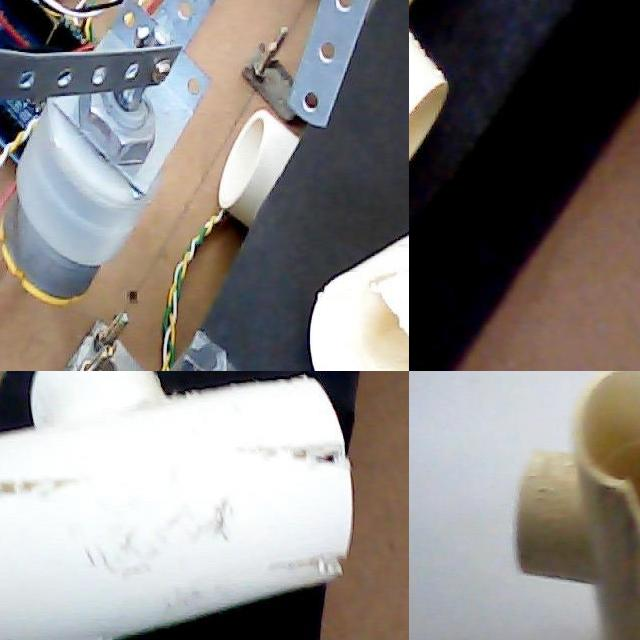Defective: (89, 506, 242, 579), (197, 416, 347, 482), (0, 593, 128, 640), (0, 449, 80, 517), (361, 268, 409, 371), (227, 538, 347, 576)
T Joint: (0, 371, 352, 640), (516, 371, 640, 640), (309, 236, 409, 371)
